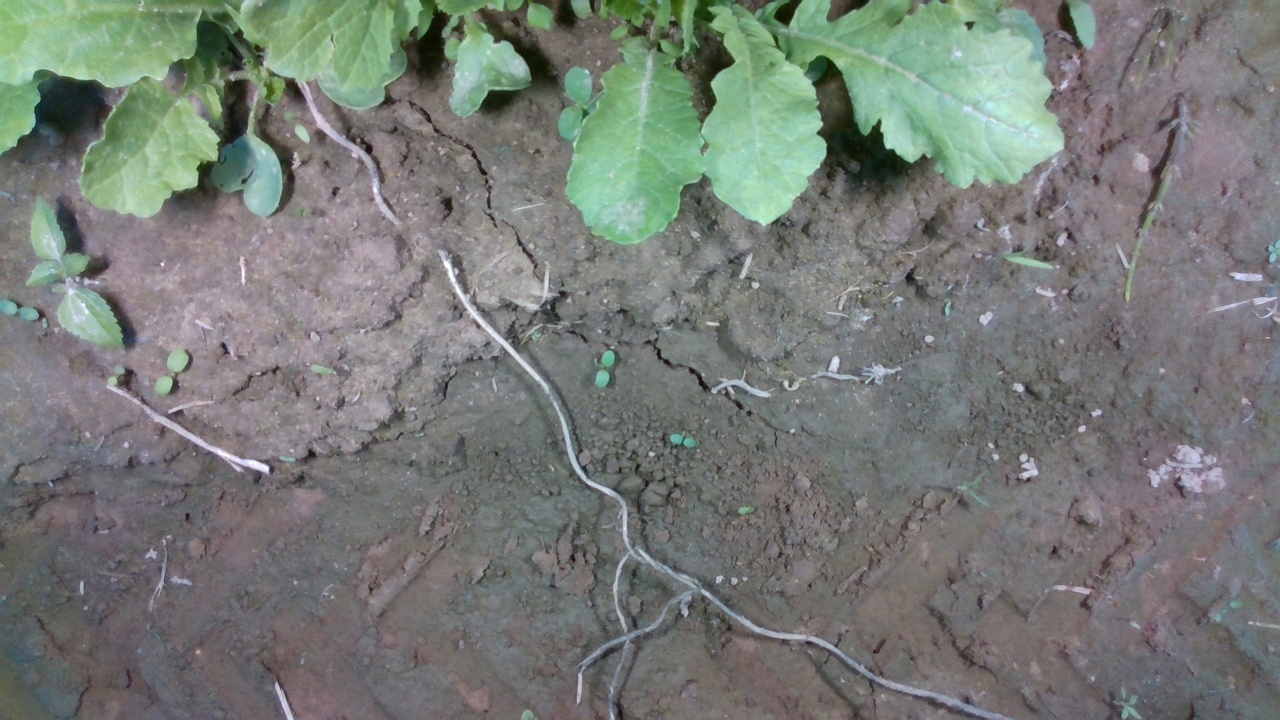weed: (152, 347, 191, 398)
